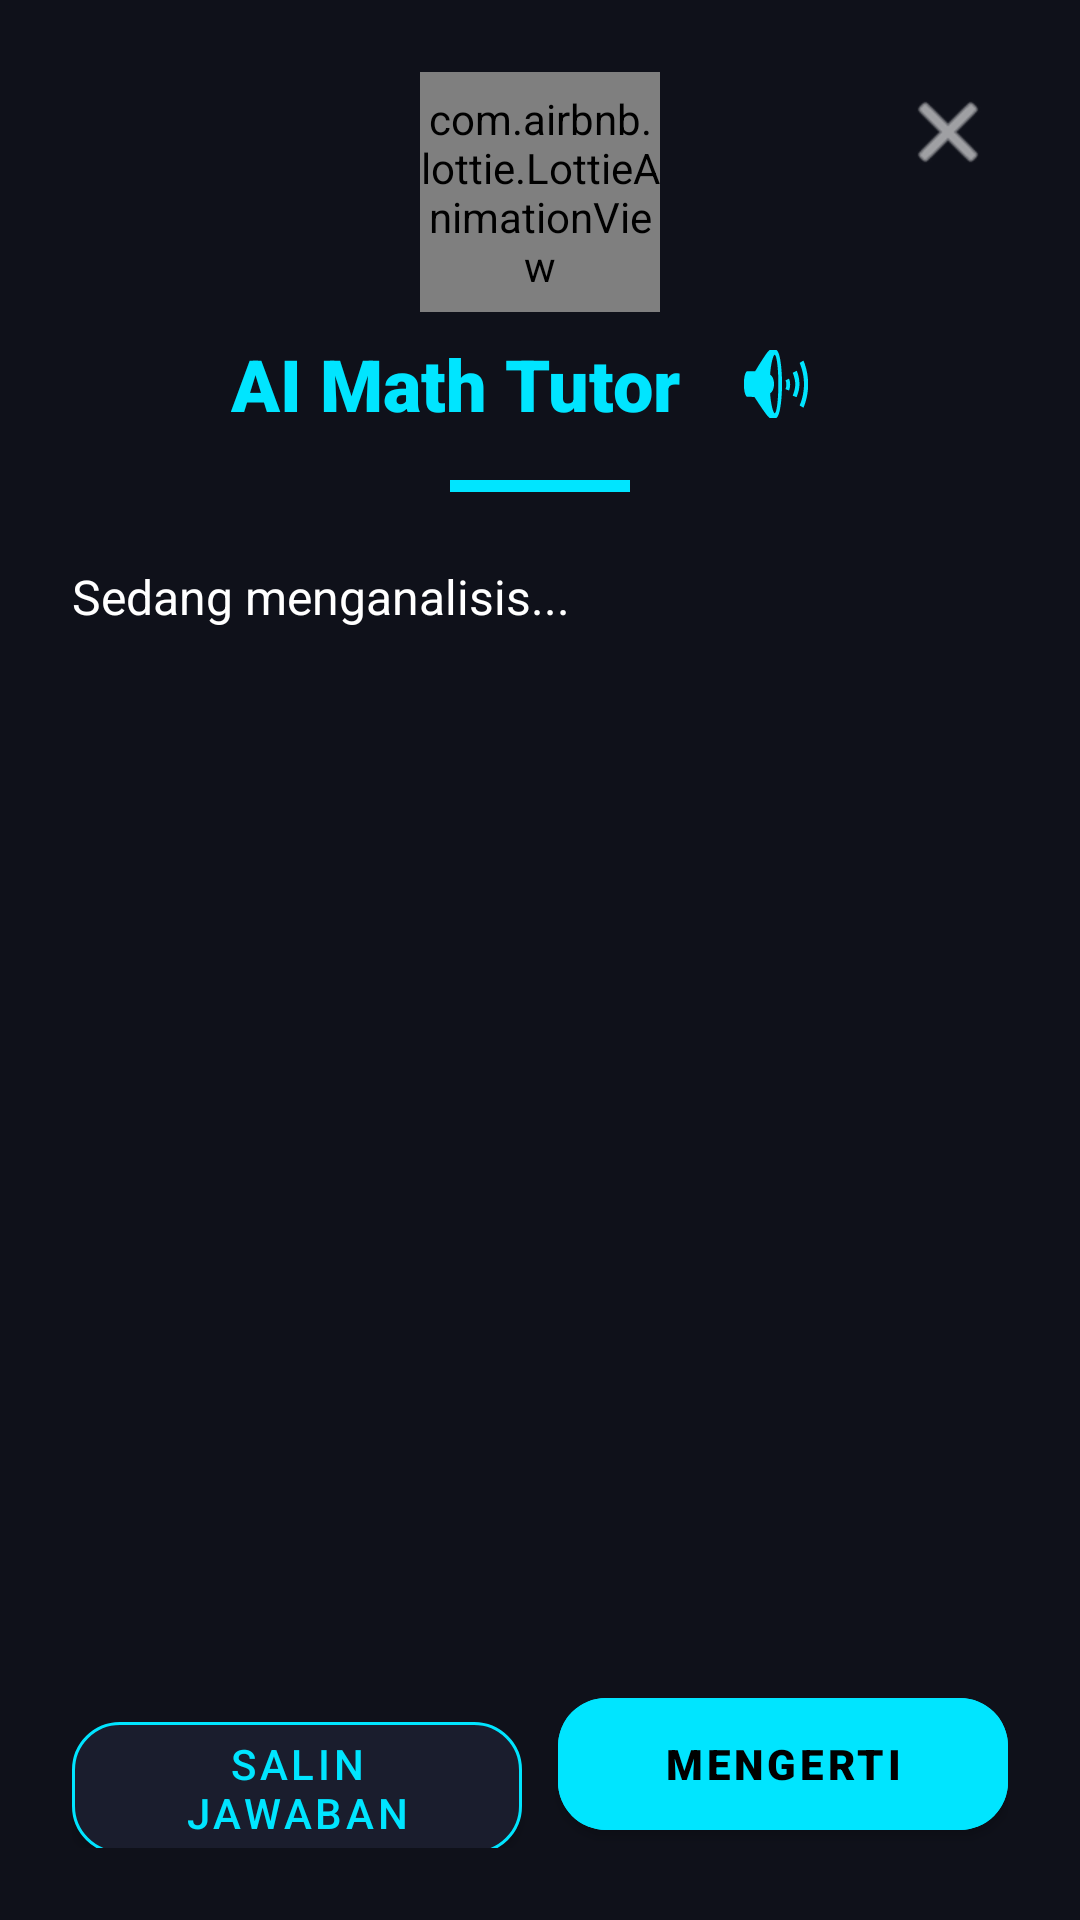

Icon bounding boxes for this 1080w x 1920h phone screenshot, format (x1, y1, x2, y2):
close clear cancel: (918, 102, 978, 162)
